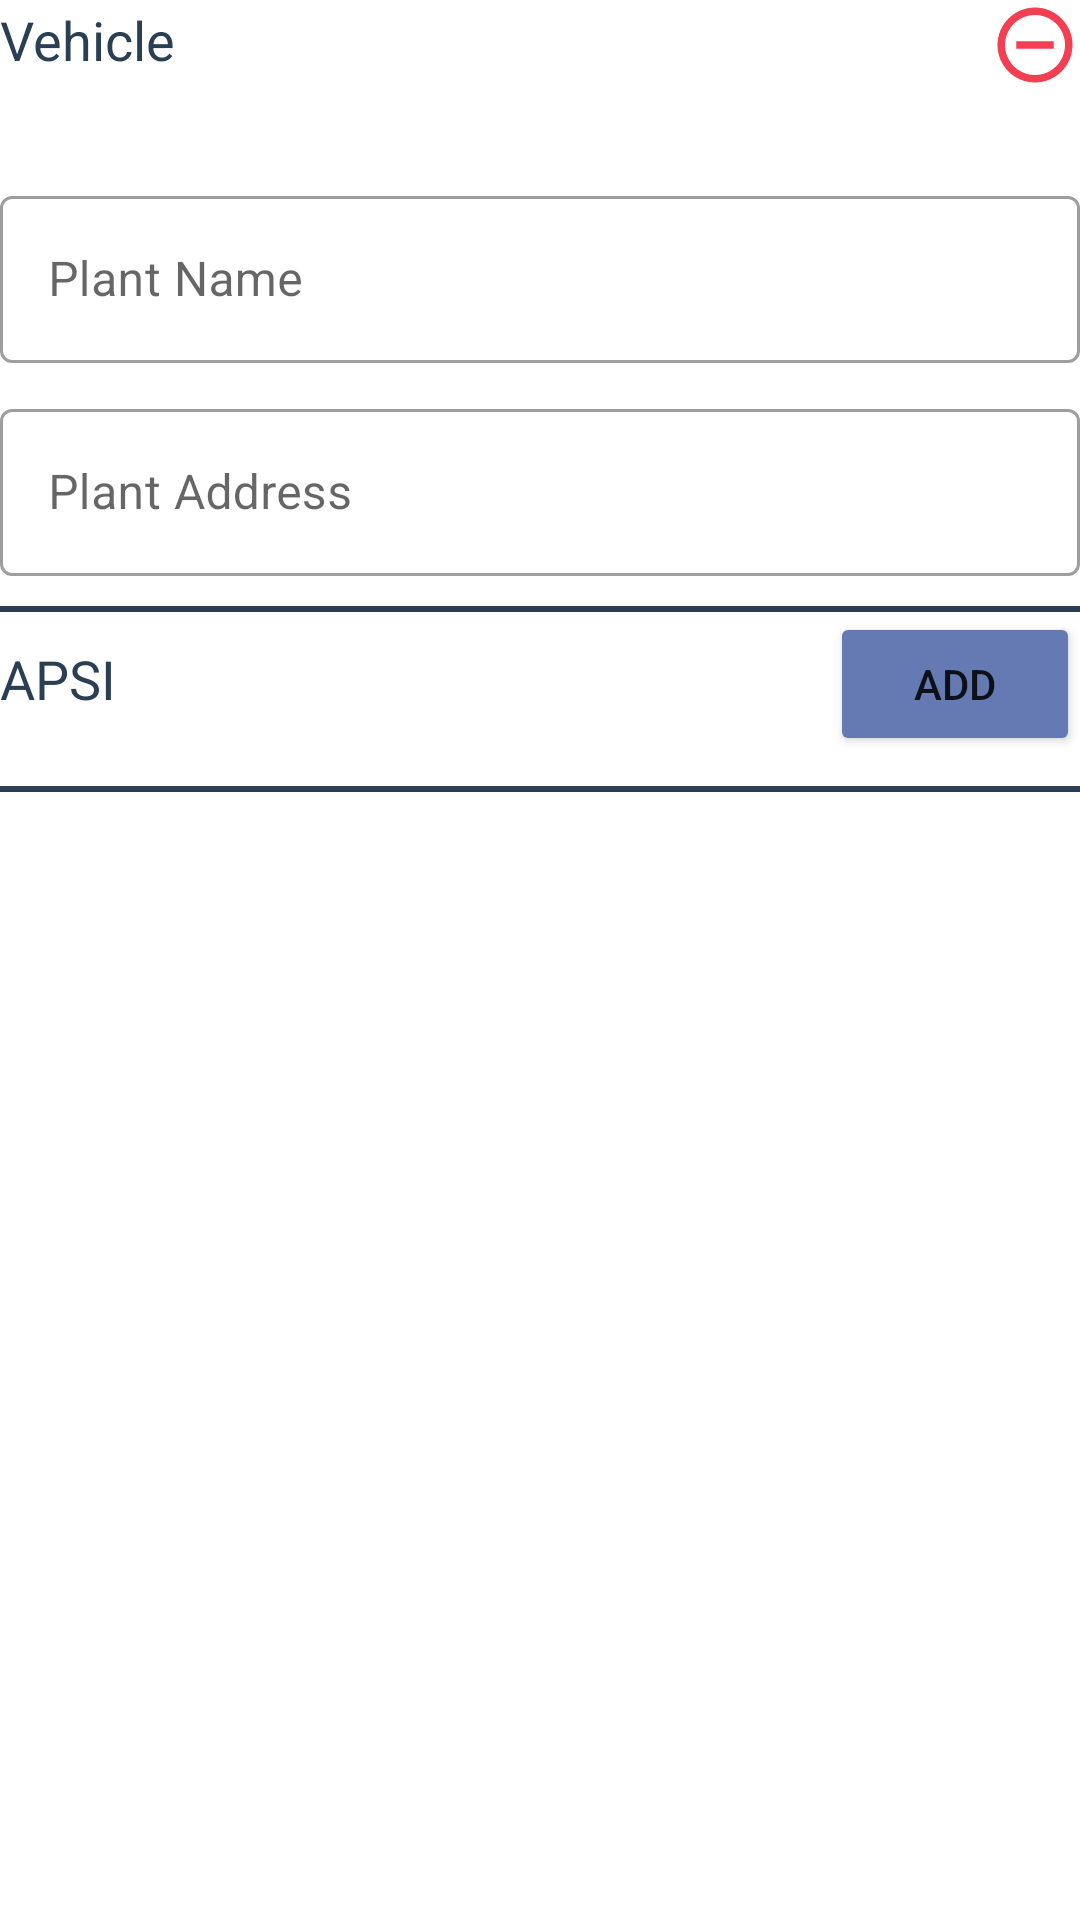

Screen size 1080w x 1920h. Icon name, then its center in pixels as (x=x, y=y):
remove circle: (x=1035, y=45)
